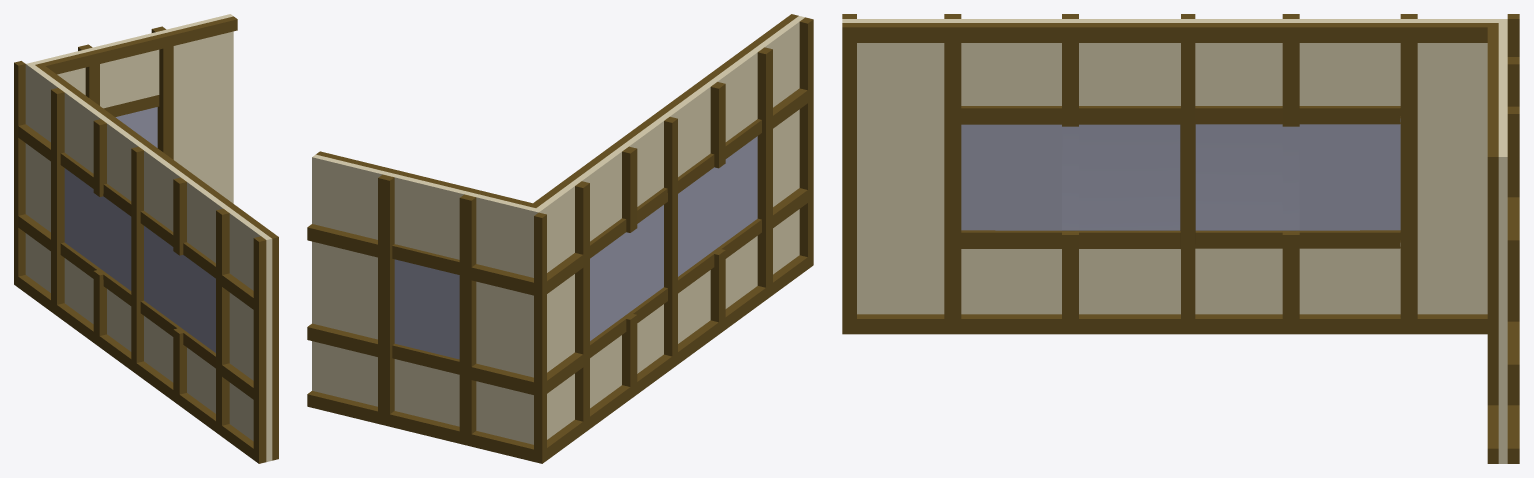
The model's file is DoubleWindow.fbx.
The picture shows the model from 3 angles, left to right: view 1: azimuth 30°, elevation 25°; view 2: azimuth 150°, elevation 25°; view 3: azimuth 270°, elevation 25°; orthographic projection. The views are drawn at different scales.
Visible parts, largest first — view 1: pCube332; view 2: pCube332; view 3: pCube332.
Part boxes in pixels (bbox=[...]): pCube332: bbox=[14, 14, 278, 463]; pCube332: bbox=[307, 14, 813, 463]; pCube332: bbox=[842, 14, 1519, 463].
Bounding box in the file's own units: 3 × 3 × 6.
